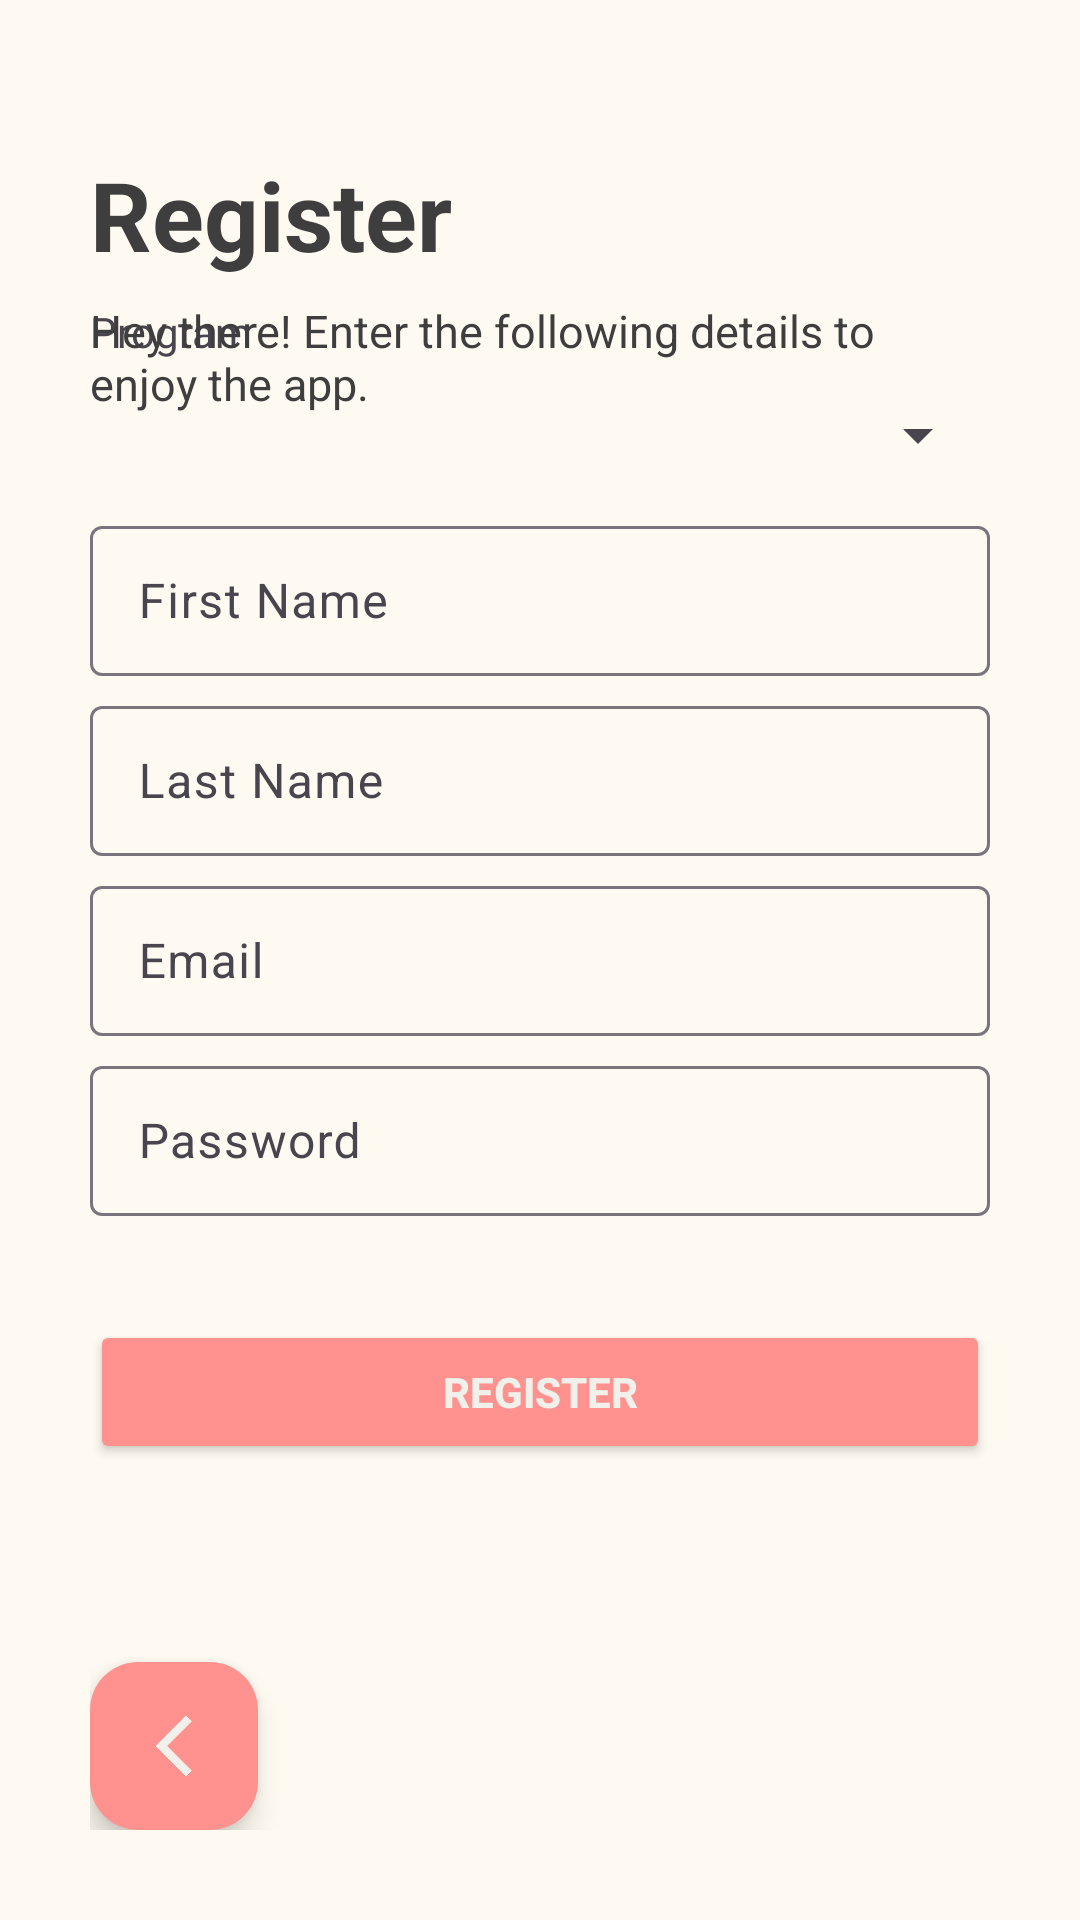

Icon bounding boxes for this 1080×1920 phone screenshot, format (x1, y1, x2, y2):
arrow back: (90, 1662, 258, 1830)
